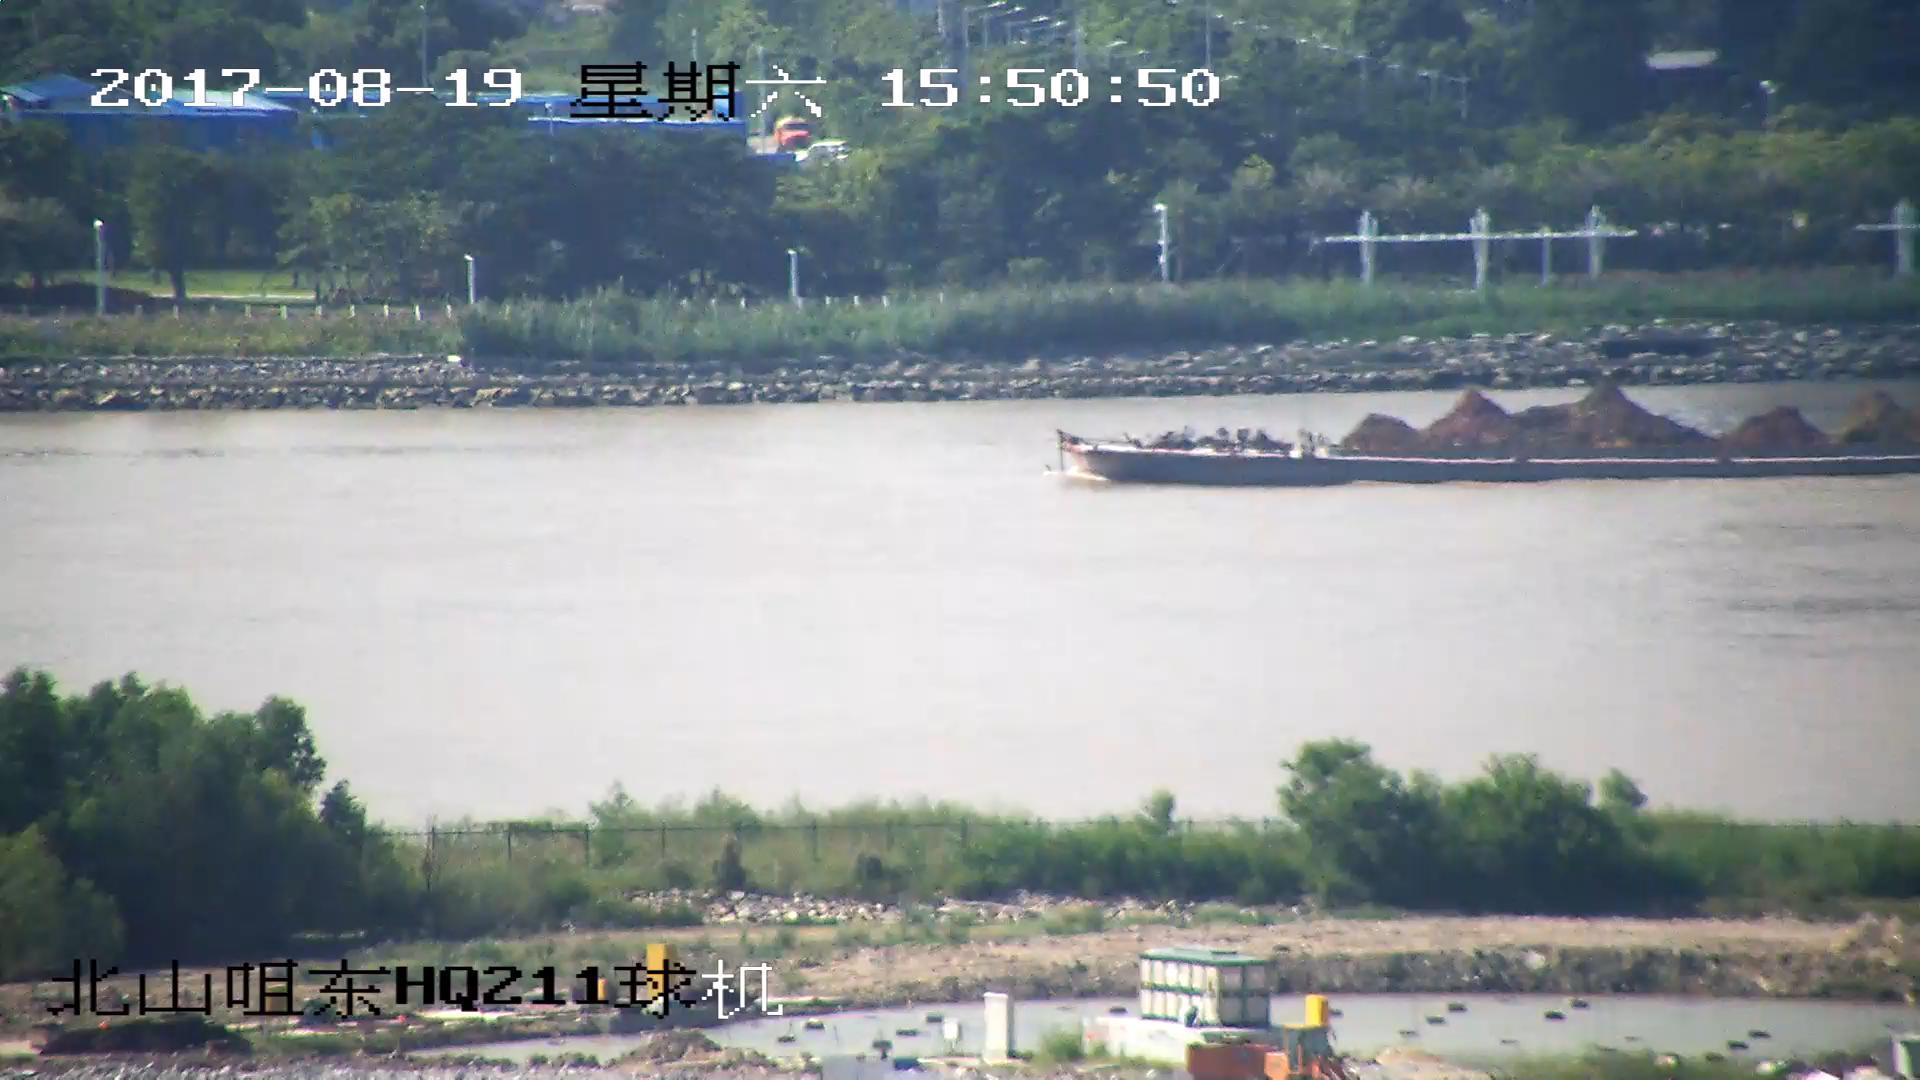Ship: (1058, 375, 1920, 495)
